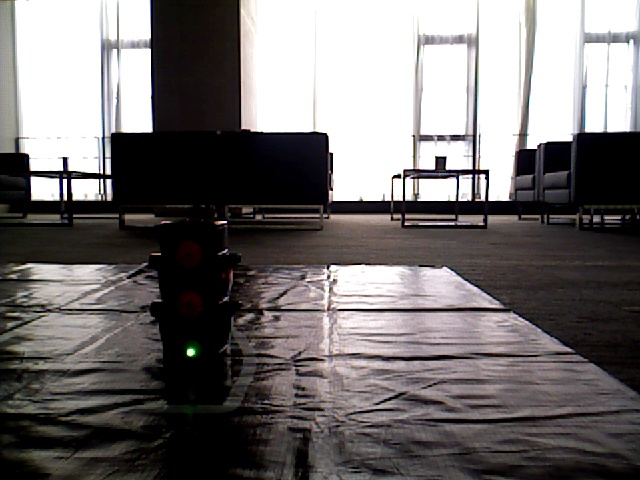green: (168, 221, 223, 357)
